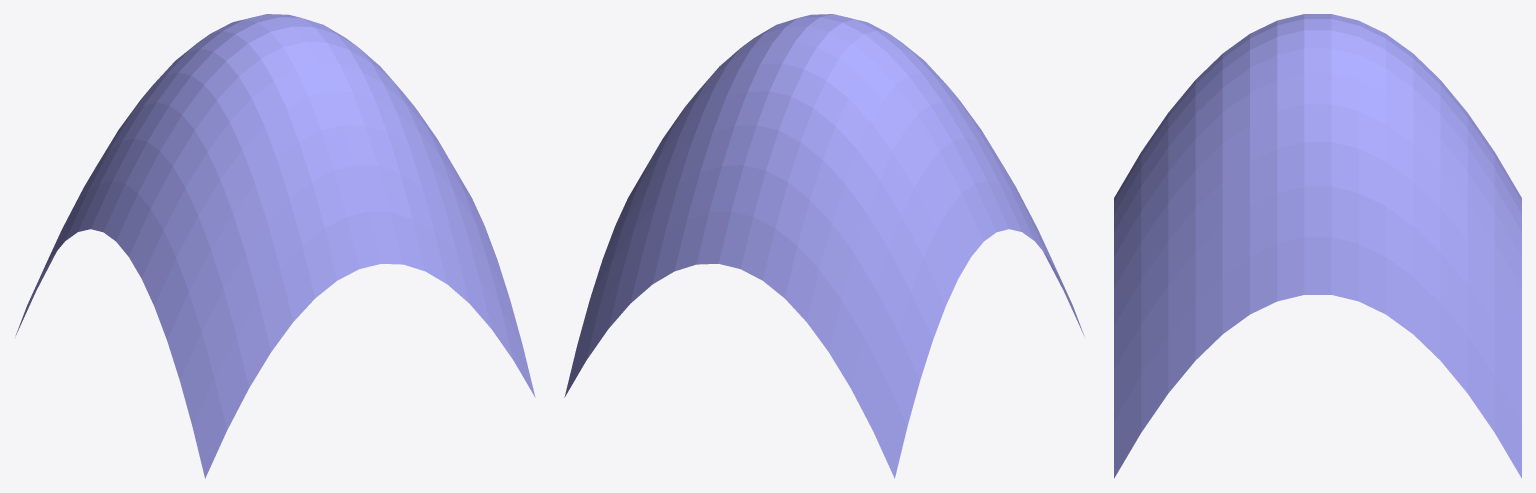
Rendered from checker.gltf.
3 views of the same model, side by side, from view 1: azimuth 30°, elevation 25°; view 2: azimuth 150°, elevation 25°; view 3: azimuth 270°, elevation 25° (orthographic). The views are drawn at different scales.
Parts seen in each view (by area): view 1: Z_Function_Z_Function_Material.001; view 2: Z_Function_Z_Function_Material.001; view 3: Z_Function_Z_Function_Material.001.
Boxes of the visible parts, bbox=[...] form: Z_Function_Z_Function_Material.001: bbox=[15, 14, 535, 478]; Z_Function_Z_Function_Material.001: bbox=[564, 14, 1084, 478]; Z_Function_Z_Function_Material.001: bbox=[1114, 14, 1521, 478].
Size of the model in its own units: 2 by 1.99 by 2.
